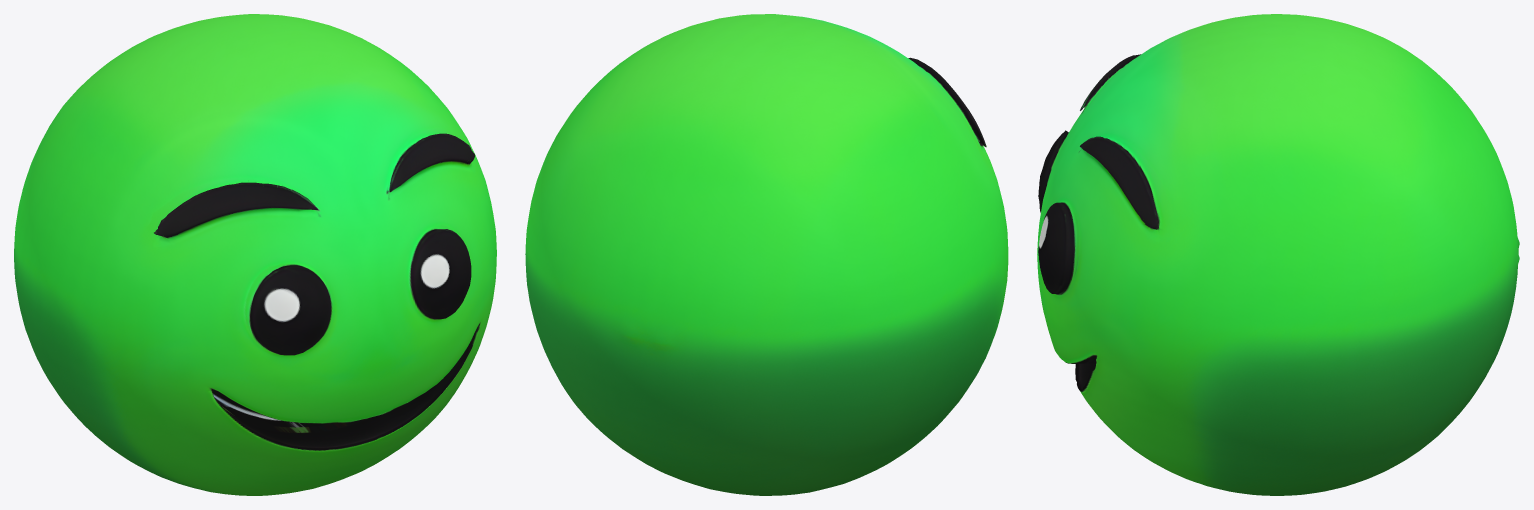
Rendered from base_basic_shaded.glb.
The picture shows the model from 3 angles, left to right: view 1: azimuth 30°, elevation 25°; view 2: azimuth 150°, elevation 25°; view 3: azimuth 270°, elevation 25°; orthographic projection.
Visible parts, largest first — view 1: model; view 2: model; view 3: model.
Boxes of the visible parts, x1,y1,x2,y2 form: model: (14, 14, 496, 495); model: (525, 14, 1008, 495); model: (1037, 14, 1519, 495).
Bounding box in the file's own units: 1.9 × 1.89 × 1.89.
Materials: 1 (1 with a texture image).
